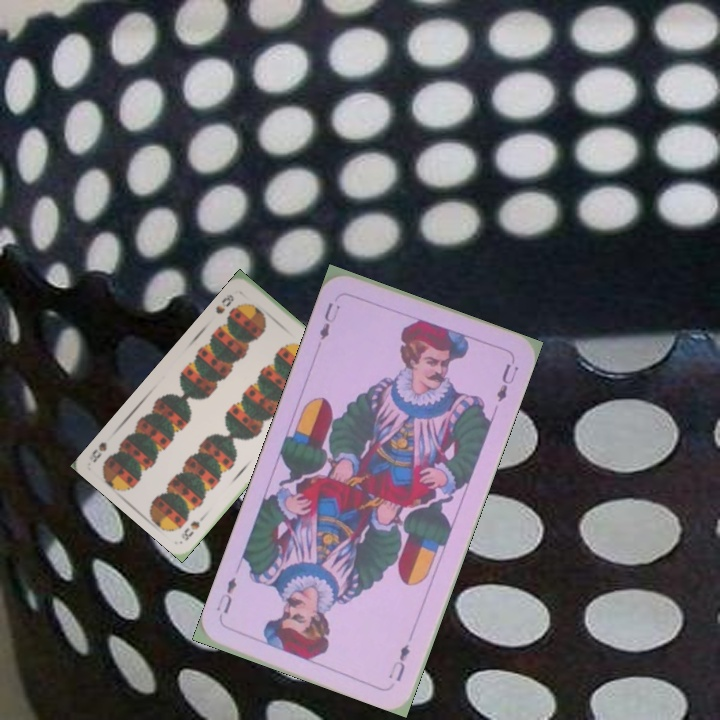EU: (384, 640, 413, 684), (315, 298, 343, 343)
S8: (177, 509, 210, 543), (211, 290, 237, 316)
